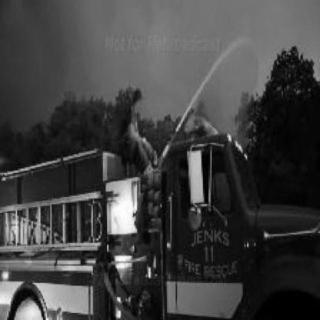other: (121, 81, 159, 171)
